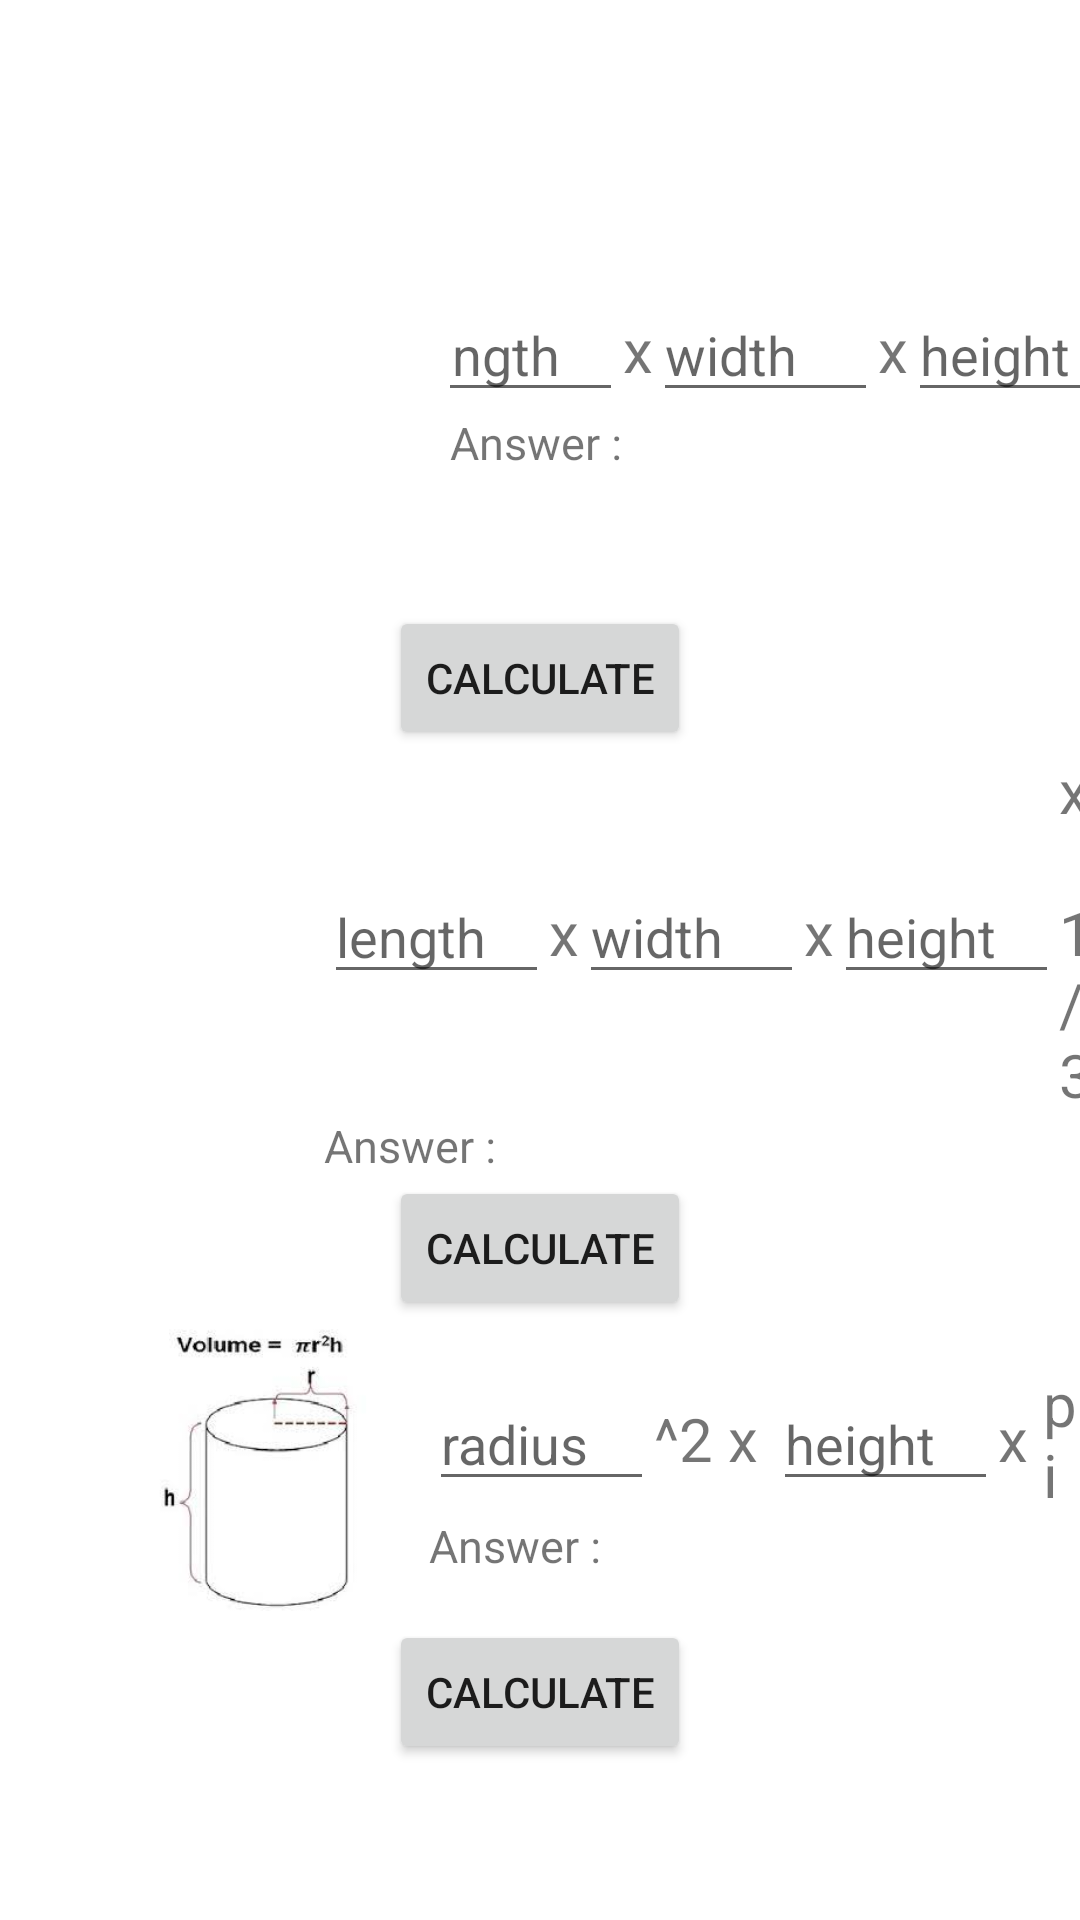

Named icons in this screenshot (1080 × 1920) and their bounding boxes, (x1,y1,x2,y2):
tube: (164,1335,350,1607)
